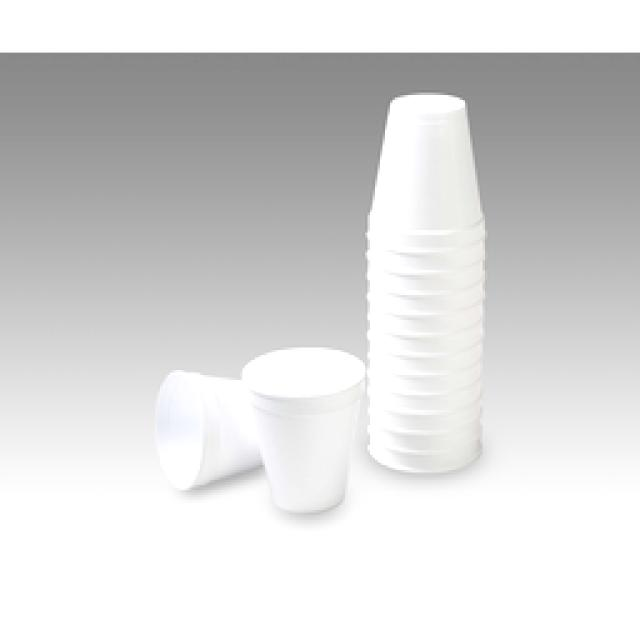inorganic: (360, 82, 485, 471), (215, 344, 370, 516)
